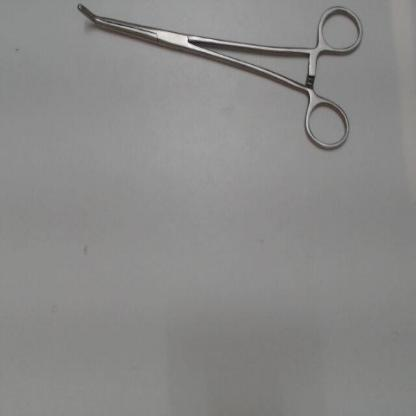Lahey Forceps: (70, 1, 366, 158)
